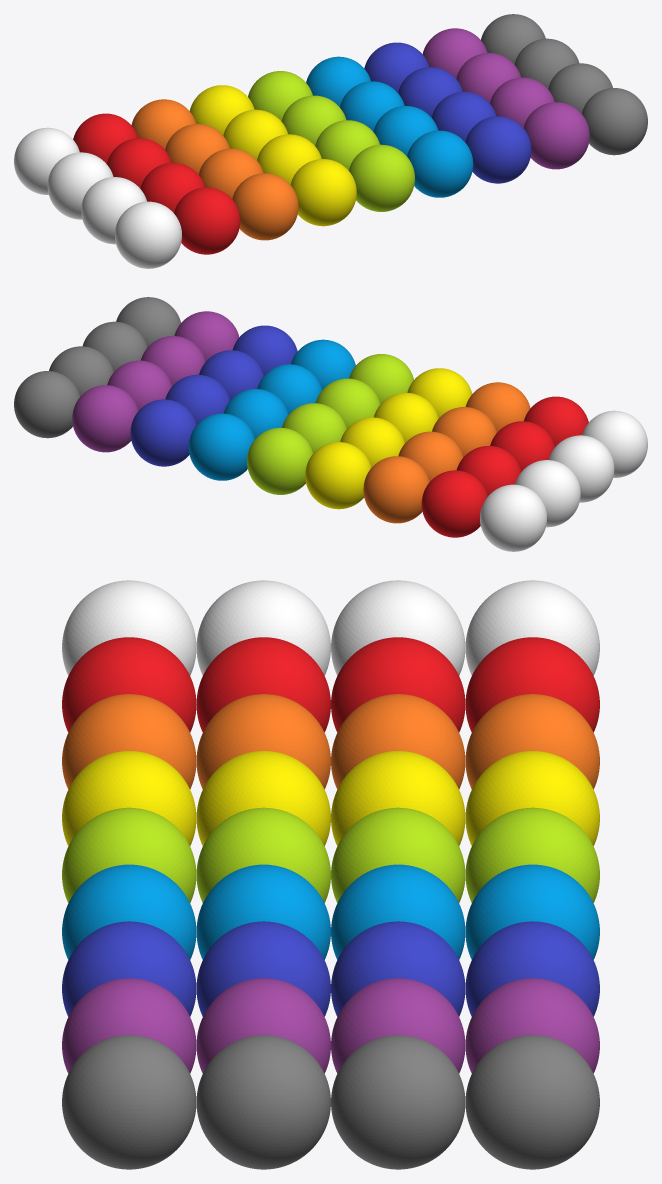
The model's file is Spheres.glb.
3 views of the same model, one above another, from view 1: azimuth 30°, elevation 25°; view 2: azimuth 150°, elevation 25°; view 3: azimuth 270°, elevation 25° (orthographic). The views are drawn at different scales.
Size of the model in its own units: 0.36 by 0.04 by 0.16.
